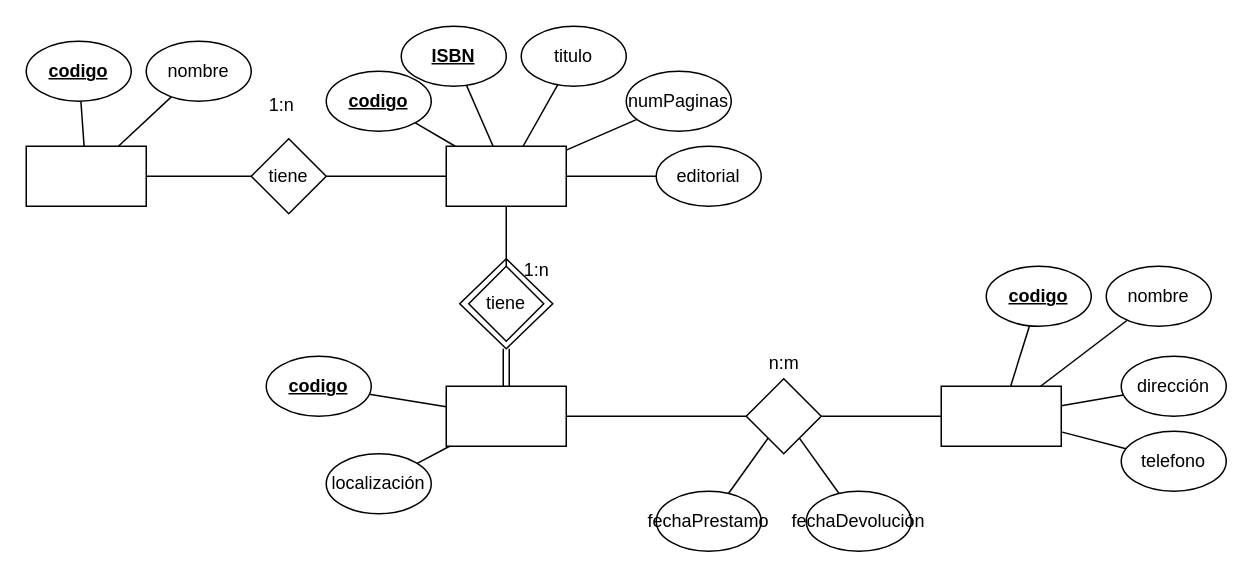
The diagram is 1253 pixels wide and 578 high, and some of its shapes have lost their labels. The box of each missing label's shape, as (x1, y1, x2, y2) in pixels:
autor: (25, 145, 146, 206)
ejemplar: (445, 385, 566, 446)
libro: (445, 145, 566, 206)
prestamo: (745, 377, 821, 454)
usuario: (940, 385, 1061, 446)
